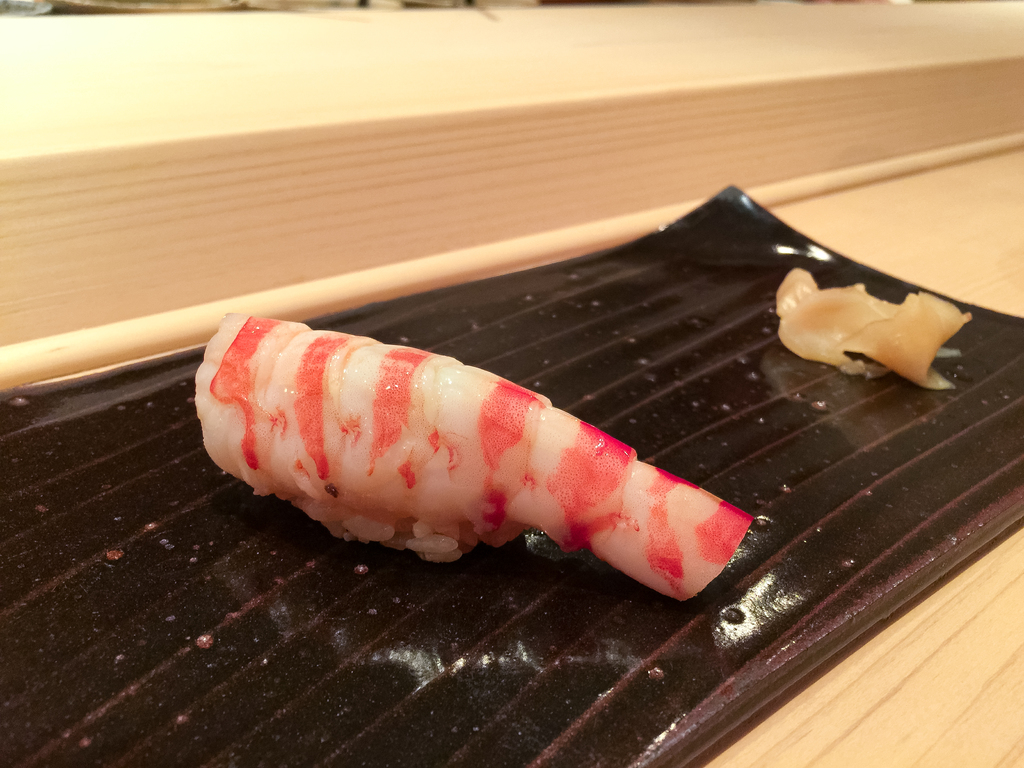sushi: (196, 313, 754, 600)
